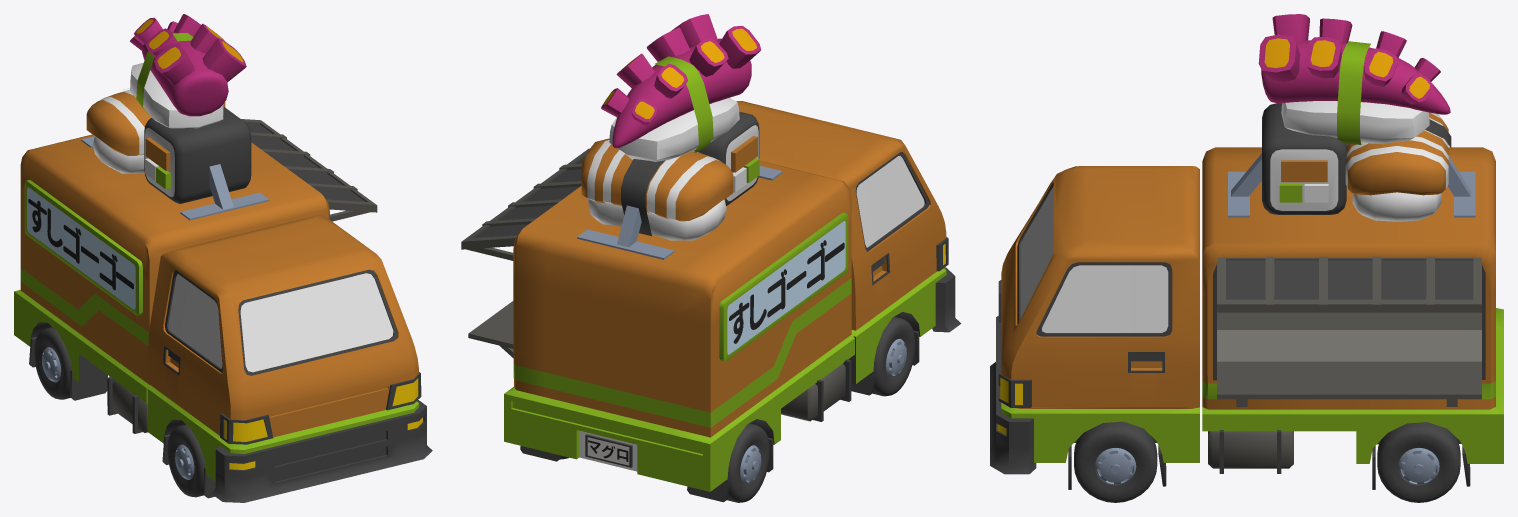
The model's file is Sushi Truck.glb.
3 renders of one model, left to right at view 1: azimuth 30°, elevation 25°; view 2: azimuth 150°, elevation 25°; view 3: azimuth 270°, elevation 25°, orthographic. The views are drawn at different scales.
Visible parts, largest first — view 1: Truck; view 2: Truck; view 3: Truck.
Boxes of the visible parts, x1,y1,x2,y2 form: Truck: (14, 14, 432, 502); Truck: (461, 14, 961, 502); Truck: (990, 14, 1503, 502).
Size of the model in its own units: 5.1 by 7.31 by 7.98.
Materials: 3 (1 with a texture image).
